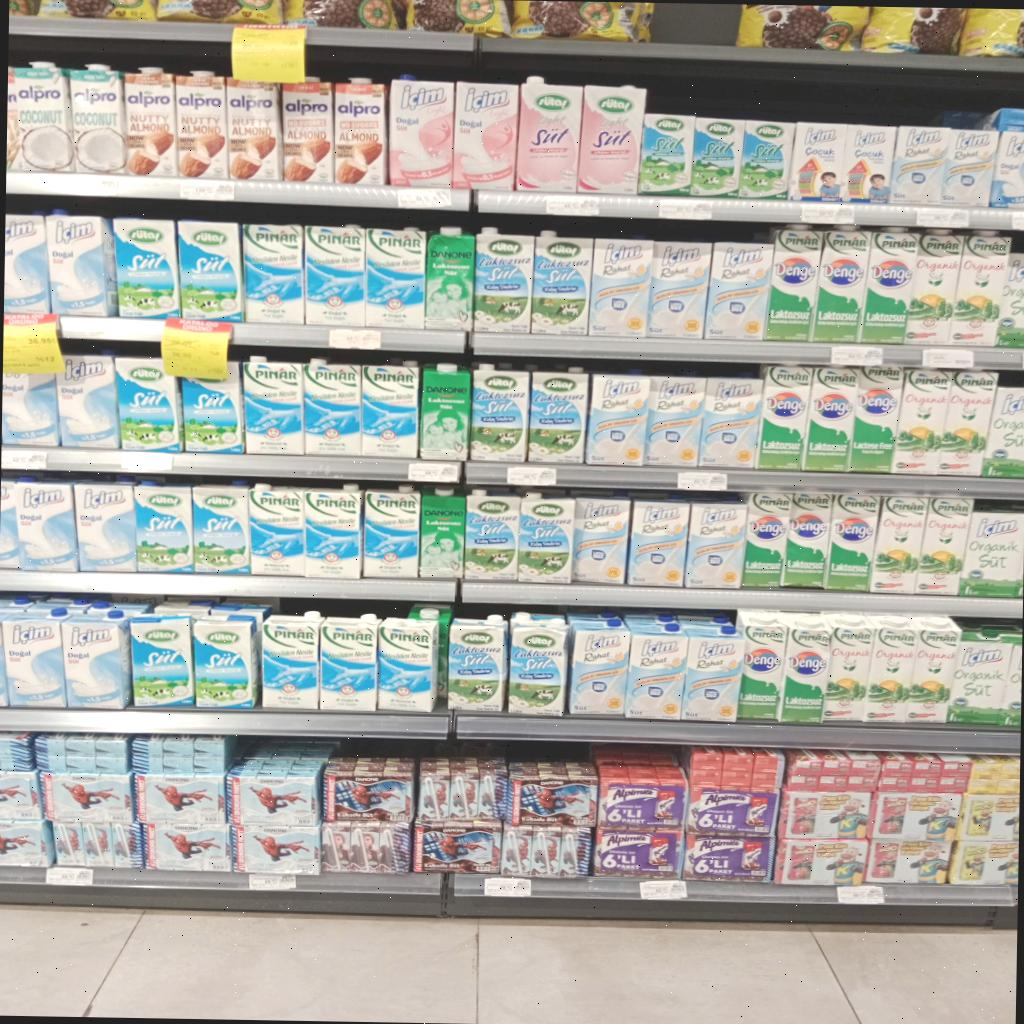price_tag: (232, 25, 306, 83), (161, 319, 232, 379), (3, 314, 63, 373), (547, 194, 599, 216), (397, 188, 451, 209), (180, 180, 234, 200), (831, 345, 882, 366), (329, 329, 382, 349), (121, 452, 174, 472), (660, 199, 713, 219), (507, 465, 556, 486), (408, 462, 459, 482), (801, 204, 854, 223), (68, 176, 118, 196), (922, 349, 974, 368), (917, 208, 969, 227), (677, 472, 727, 491), (485, 877, 531, 897), (46, 867, 93, 886), (838, 885, 884, 904), (641, 880, 687, 899), (1, 450, 46, 469), (248, 874, 295, 891), (1012, 211, 1023, 230), (1022, 353, 1023, 368)
product: (516, 76, 582, 193), (577, 85, 645, 194), (388, 76, 453, 188), (452, 82, 518, 190), (46, 216, 117, 316), (949, 230, 1010, 346), (12, 63, 75, 172), (703, 242, 773, 339), (63, 609, 131, 708), (177, 220, 243, 321), (114, 218, 179, 319), (812, 227, 869, 342), (860, 228, 916, 344), (2, 608, 68, 706), (116, 358, 184, 453), (765, 226, 821, 341), (905, 229, 961, 344), (68, 64, 127, 173), (531, 231, 592, 335), (891, 369, 951, 474), (589, 239, 653, 337), (473, 227, 532, 333), (304, 225, 365, 327), (194, 614, 260, 708), (567, 618, 630, 716), (647, 242, 711, 338), (681, 625, 745, 721), (625, 623, 688, 720), (242, 355, 303, 454), (14, 477, 78, 571), (905, 616, 961, 723), (939, 370, 996, 475), (323, 757, 415, 822), (73, 478, 137, 571), (130, 613, 194, 706), (123, 67, 177, 177), (243, 224, 303, 323), (947, 628, 1008, 725), (366, 228, 425, 328), (58, 353, 120, 448), (506, 762, 598, 826), (863, 615, 917, 724), (598, 761, 687, 827), (585, 374, 649, 465), (959, 509, 1024, 598), (262, 611, 321, 709), (697, 377, 761, 467), (527, 368, 588, 462), (869, 496, 928, 593), (226, 78, 282, 180), (470, 364, 528, 462), (914, 497, 972, 595), (849, 366, 902, 473), (447, 615, 506, 711), (509, 619, 567, 716), (181, 364, 243, 454), (416, 757, 506, 819), (757, 365, 810, 470), (175, 71, 227, 178), (134, 480, 194, 572), (803, 367, 856, 471), (303, 359, 360, 455), (321, 614, 378, 710), (334, 78, 385, 185), (824, 614, 875, 721), (627, 498, 689, 586), (303, 484, 361, 578), (379, 617, 437, 711), (684, 499, 745, 588), (645, 375, 705, 465), (362, 361, 418, 457), (282, 79, 333, 182), (779, 616, 828, 723), (249, 483, 305, 576), (363, 485, 419, 577), (517, 492, 574, 582), (500, 823, 593, 878), (192, 485, 250, 573), (825, 494, 878, 590), (737, 614, 785, 720), (419, 363, 471, 460), (228, 771, 319, 826), (573, 498, 631, 584), (465, 490, 520, 580), (3, 214, 53, 312), (41, 771, 133, 823), (781, 492, 831, 587), (426, 227, 473, 328), (778, 788, 871, 839), (414, 819, 501, 873), (890, 126, 950, 204), (321, 821, 411, 873), (686, 786, 779, 836), (788, 123, 846, 202), (683, 832, 774, 882), (742, 492, 789, 588), (135, 773, 225, 823), (774, 838, 867, 886), (870, 792, 961, 841), (638, 113, 693, 194), (594, 827, 683, 877), (230, 825, 320, 874), (940, 129, 997, 206), (690, 117, 744, 197), (1, 372, 58, 447), (144, 822, 230, 871), (739, 121, 793, 199), (53, 821, 142, 868), (419, 488, 464, 577), (844, 125, 896, 202), (864, 838, 951, 884), (981, 386, 1024, 477), (947, 840, 1018, 886), (956, 793, 1019, 842), (995, 253, 1024, 349), (989, 130, 1024, 207), (0, 818, 55, 867), (0, 769, 43, 820)
